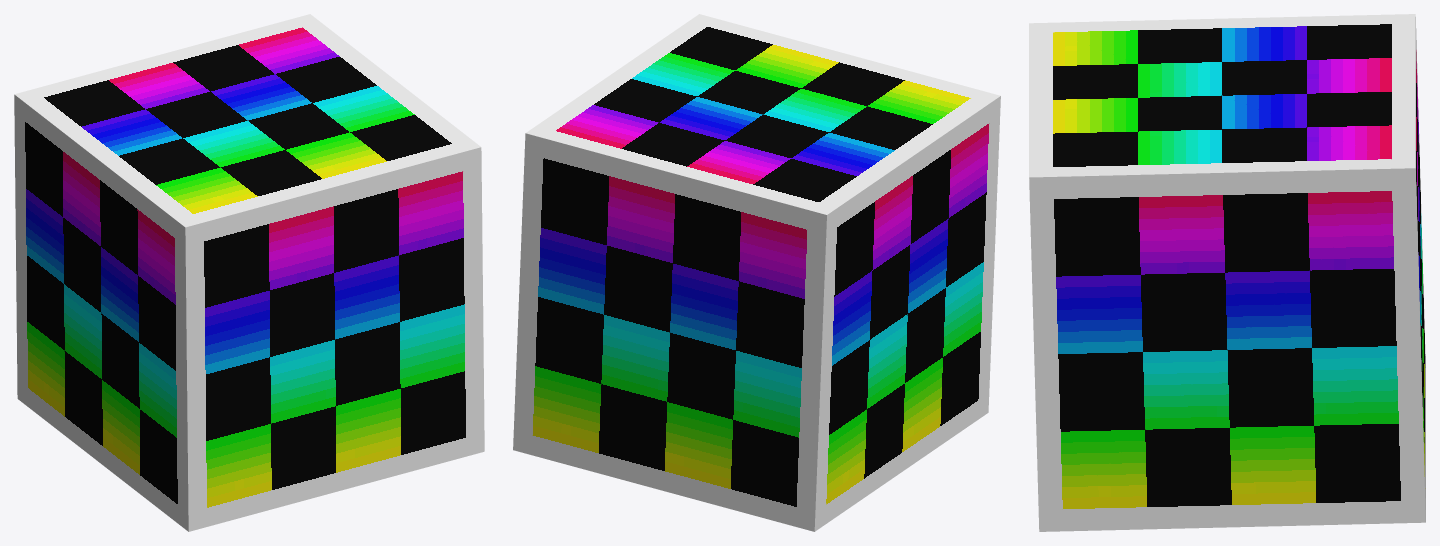
Rendered from MapObj-itembox.glb.
The picture shows the model from 3 angles, left to right: view 1: azimuth 30°, elevation 25°; view 2: azimuth 150°, elevation 25°; view 3: azimuth 270°, elevation 25°; orthographic projection. The views are drawn at different scales.
Visible parts, largest first — view 1: itembox; view 2: itembox; view 3: itembox.
Boxes of the visible parts, x1,y1,x2,y2 form: itembox: [14, 14, 484, 531]; itembox: [513, 14, 1000, 531]; itembox: [1029, 14, 1425, 531].
Bounding box in the file's own units: 0.9624 × 0.9858 × 0.9618.
2 materials, 2 textured.
